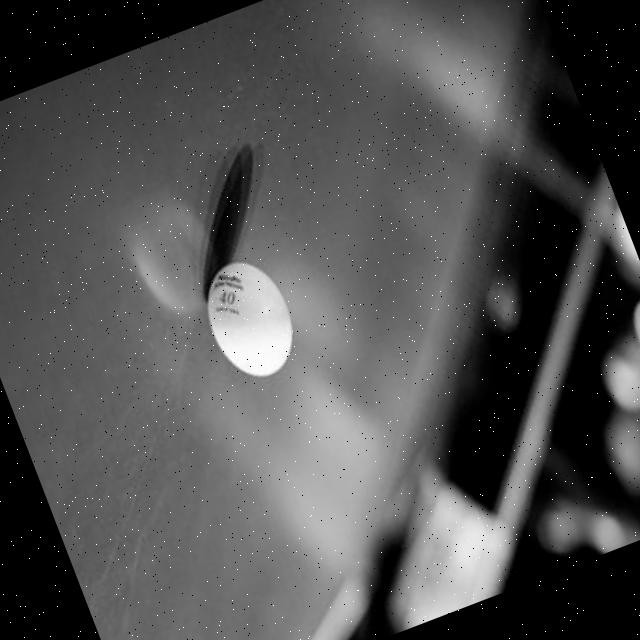ping-pong-ball: (188, 245, 307, 388)
